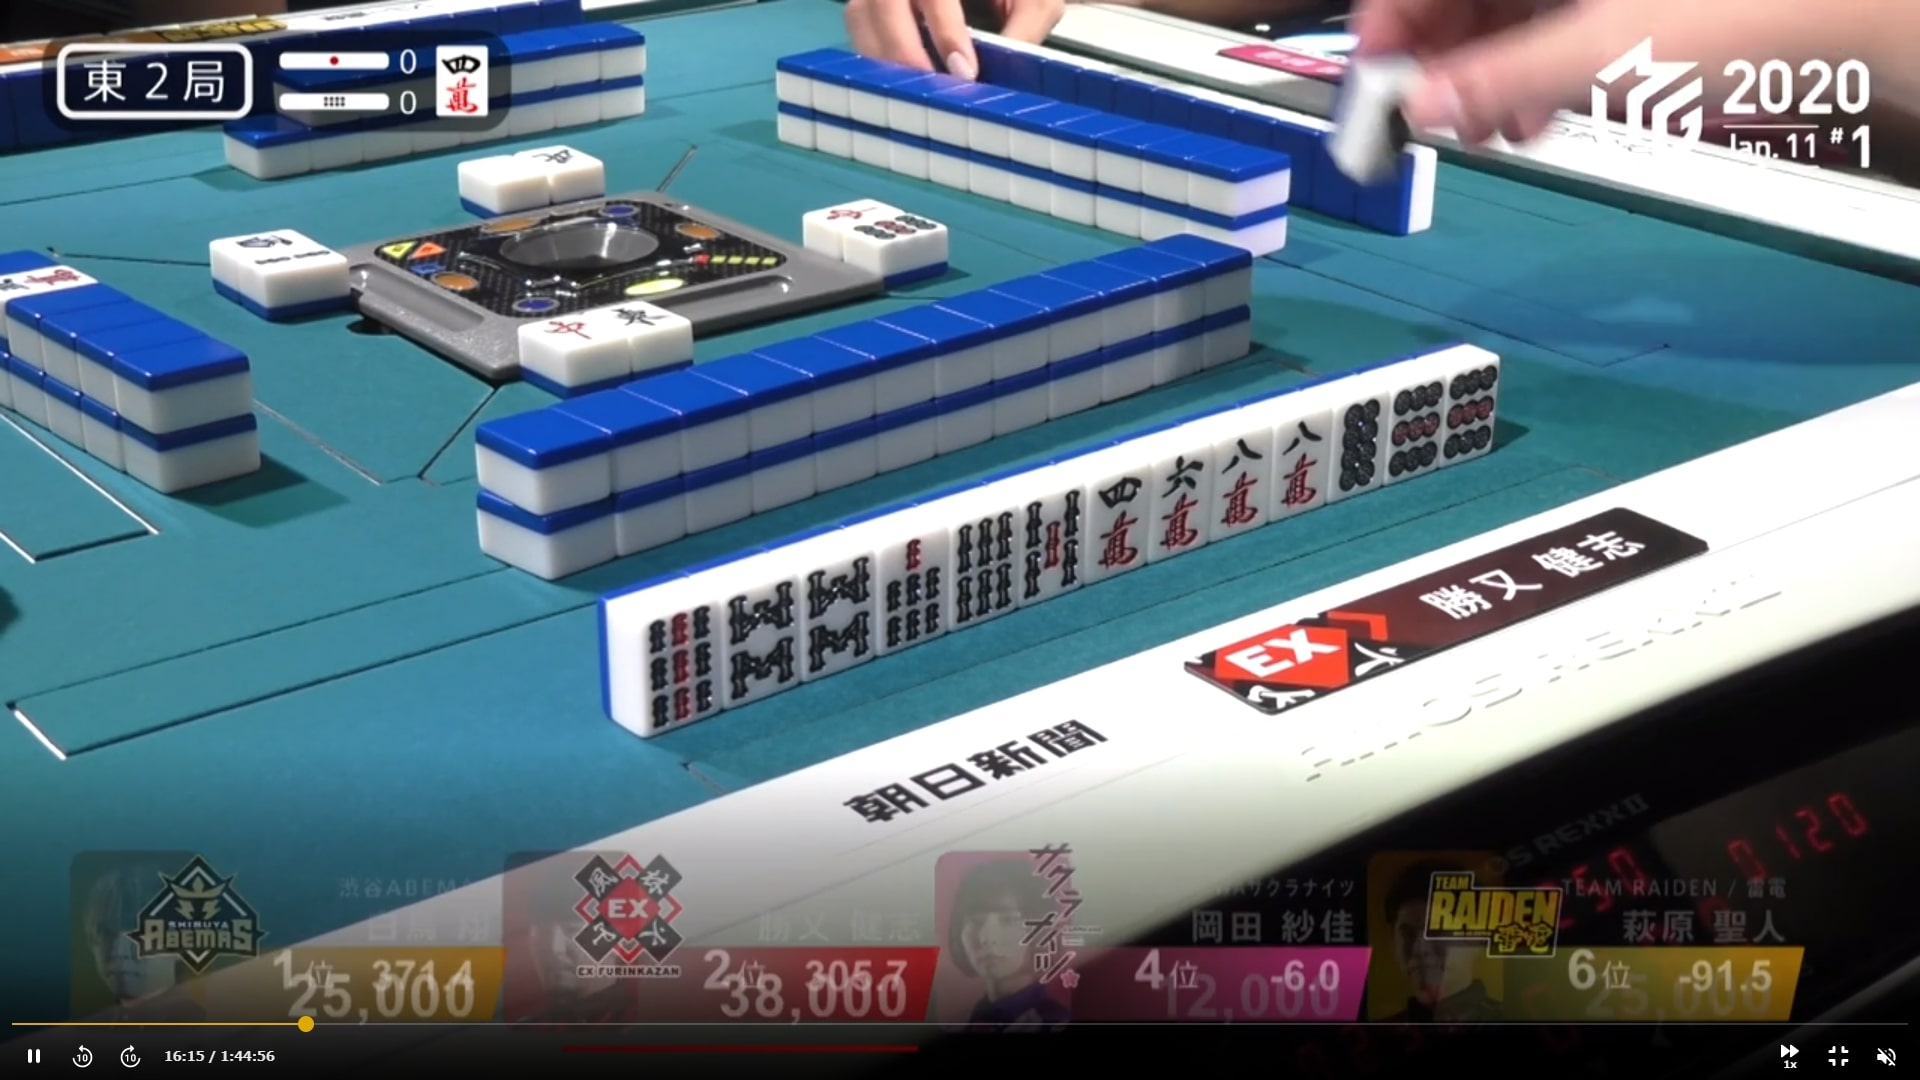4m: (1087, 473, 1149, 579)
5s: (1011, 488, 1087, 603)
6m: (1151, 450, 1211, 553)
6s: (947, 509, 1014, 622)
7s: (874, 529, 945, 647)
8m: (1213, 433, 1269, 534), (1270, 411, 1323, 516)
8p: (1333, 394, 1385, 496)
8s: (717, 579, 803, 702), (793, 556, 876, 675)
9p: (1443, 357, 1495, 460), (1390, 378, 1443, 480)
9s: (629, 603, 715, 729)
hand_ton_2: (44, 34, 269, 119)
round_0: (261, 82, 427, 119)
team_exfurinkazan: (1185, 585, 1466, 713)
